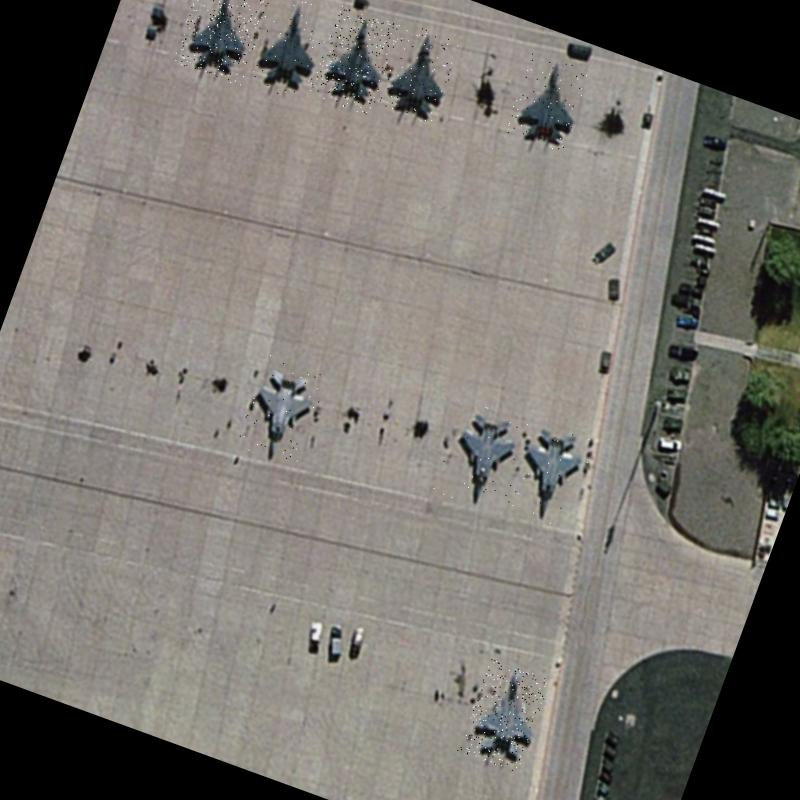A13: (429, 395, 530, 516), (232, 352, 328, 467), (500, 416, 596, 529), (457, 656, 550, 772), (308, 4, 402, 116), (503, 49, 594, 154), (247, 0, 338, 103), (376, 22, 462, 127), (171, 0, 272, 86)
